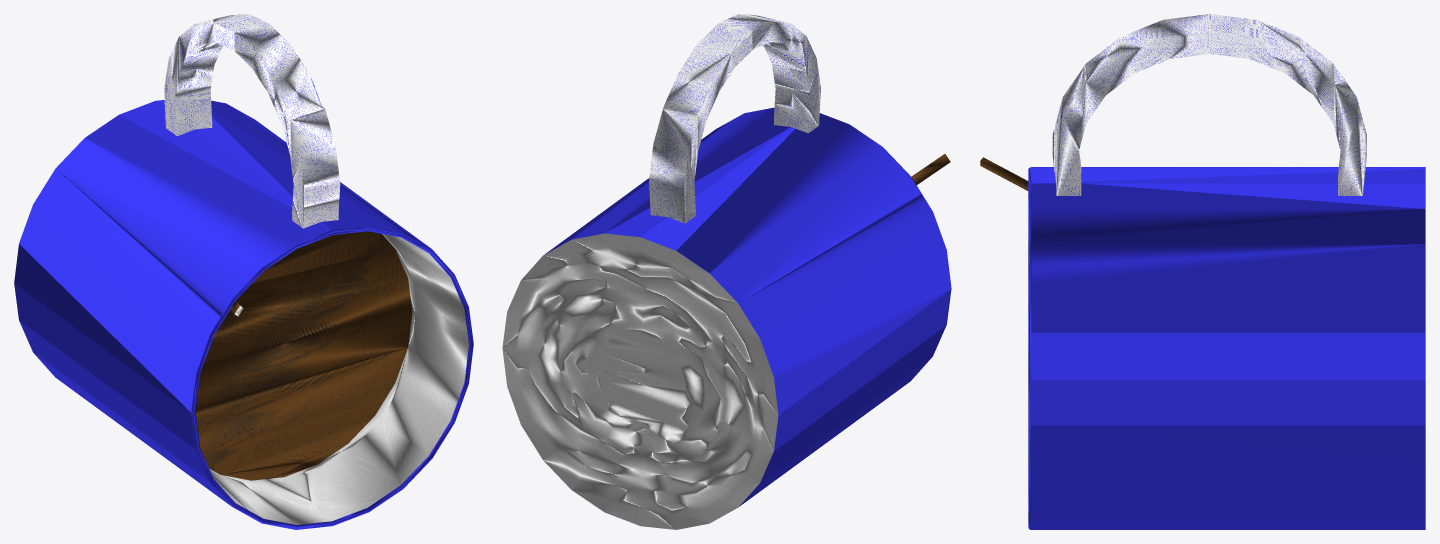
The model's file is model_align.obj.
The picture shows the model from 3 angles, left to right: view 1: azimuth 30°, elevation 25°; view 2: azimuth 150°, elevation 25°; view 3: azimuth 270°, elevation 25°; orthographic projection. The views are drawn at different scales.
Size of the model in its own units: 0.0843 by 0.1252 by 0.1032.
